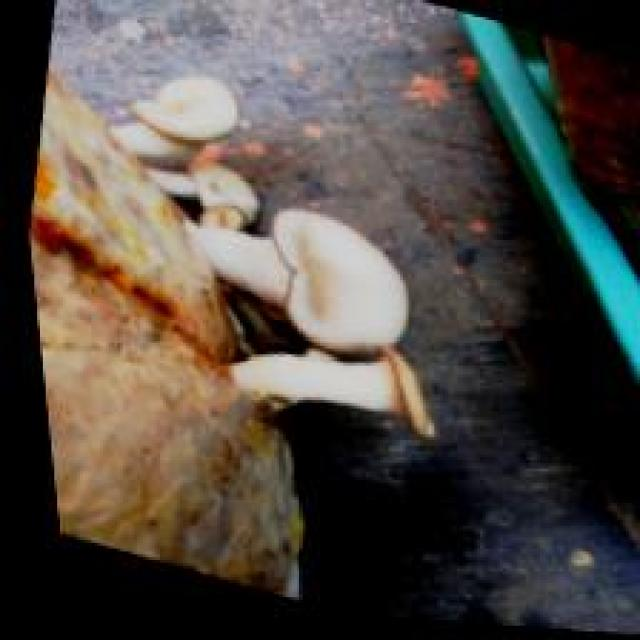chanterelle: (29, 66, 440, 597)
